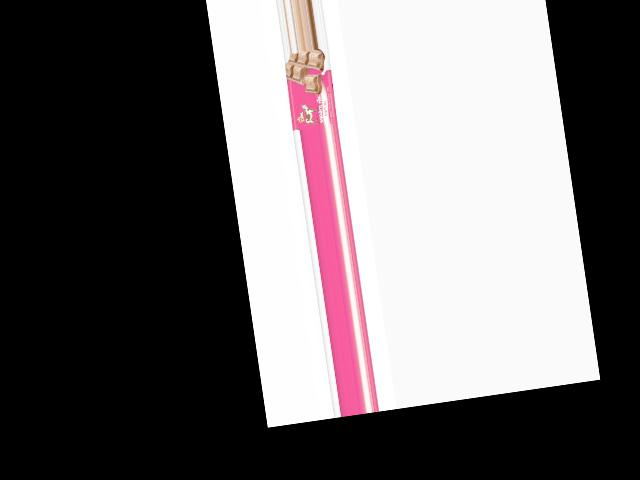chocolate: (282, 48, 338, 131)
